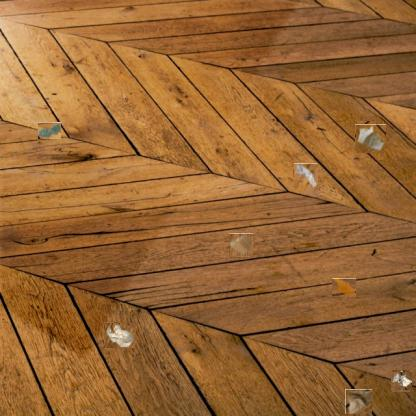dirty: (356, 123, 385, 152), (104, 322, 136, 348), (345, 388, 372, 415), (293, 164, 318, 188), (230, 233, 253, 257), (391, 371, 411, 391)
liquid: (332, 278, 356, 297), (37, 122, 61, 139)
